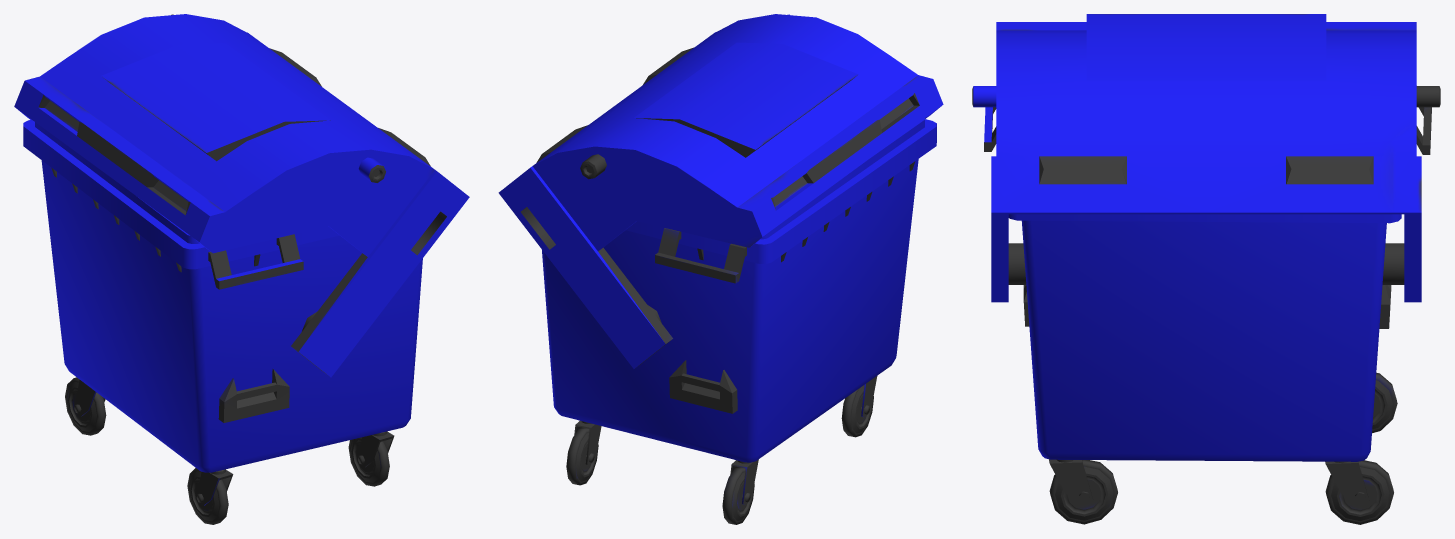
The model's file is TonneBlau.glb.
3 views of the same model, side by side, from view 1: azimuth 30°, elevation 25°; view 2: azimuth 150°, elevation 25°; view 3: azimuth 270°, elevation 25° (orthographic). The views are drawn at different scales.
Visible parts, largest first — view 1: Cube.001; view 2: Cube.001; view 3: Cube.001.
Boxes of the visible parts, x1=… form: Cube.001: x1=14, y1=14, x2=469, y2=524; Cube.001: x1=498, y1=14, x2=943, y2=524; Cube.001: x1=972, y1=14, x2=1440, y2=524.
Size of what is drawn, in the model's own units: 2.59 by 3.46 by 3.39.
1 material, 1 textured.
